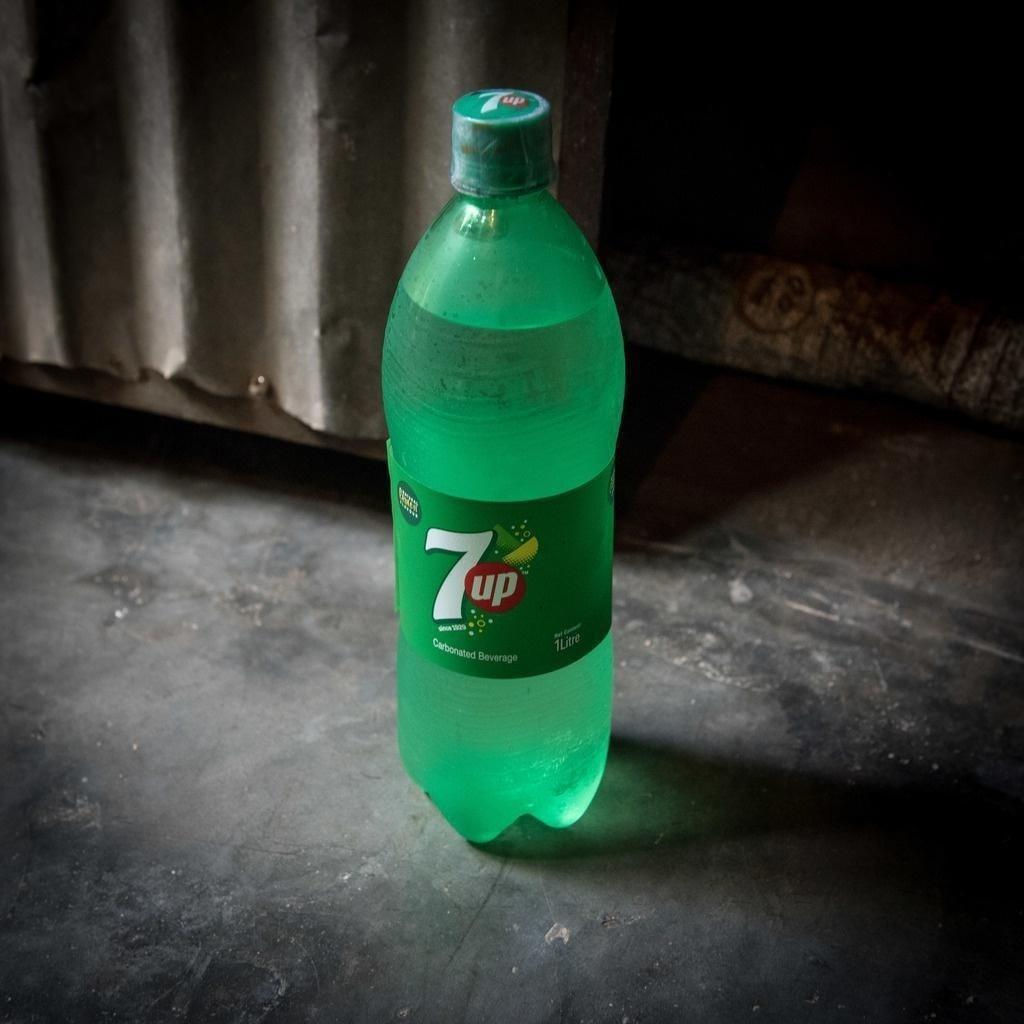bottle-plastic: (372, 76, 635, 853)
